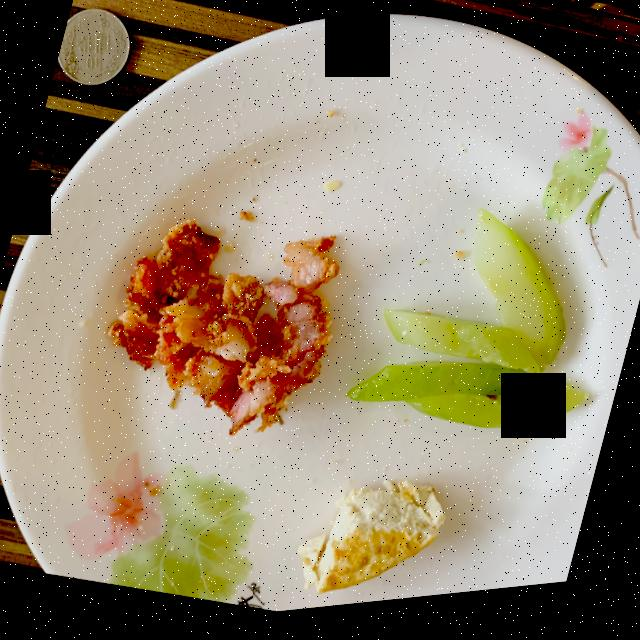coin: (58, 9, 130, 86)
red grilled pork: (108, 224, 336, 437)
